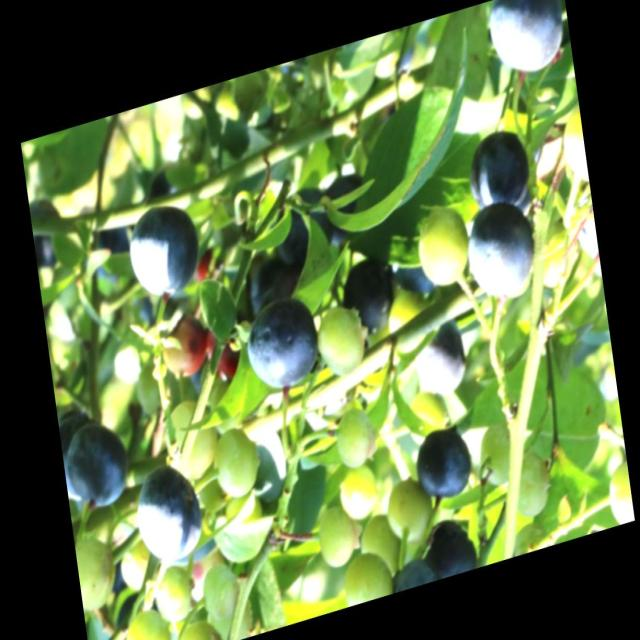blueberry: (119, 188, 207, 308), (237, 290, 324, 406), (460, 187, 538, 316), (128, 450, 205, 572), (482, 0, 567, 89), (461, 121, 538, 216), (62, 417, 133, 514), (411, 416, 475, 511), (407, 310, 469, 405), (339, 254, 398, 332)
blueberry-halfripe: (157, 310, 211, 390), (205, 318, 246, 386)
blueberry-unripe: (158, 388, 221, 487), (414, 203, 474, 297), (206, 413, 262, 503), (73, 520, 126, 613), (379, 471, 435, 556), (352, 504, 407, 584), (314, 302, 366, 384), (510, 449, 558, 527), (328, 400, 377, 476), (313, 497, 359, 574), (196, 554, 246, 624), (147, 558, 197, 626), (477, 419, 522, 492), (557, 100, 590, 198), (342, 546, 396, 605), (386, 288, 432, 354), (340, 460, 382, 526), (596, 458, 634, 526), (117, 540, 159, 600), (119, 601, 175, 639), (164, 612, 229, 639)
